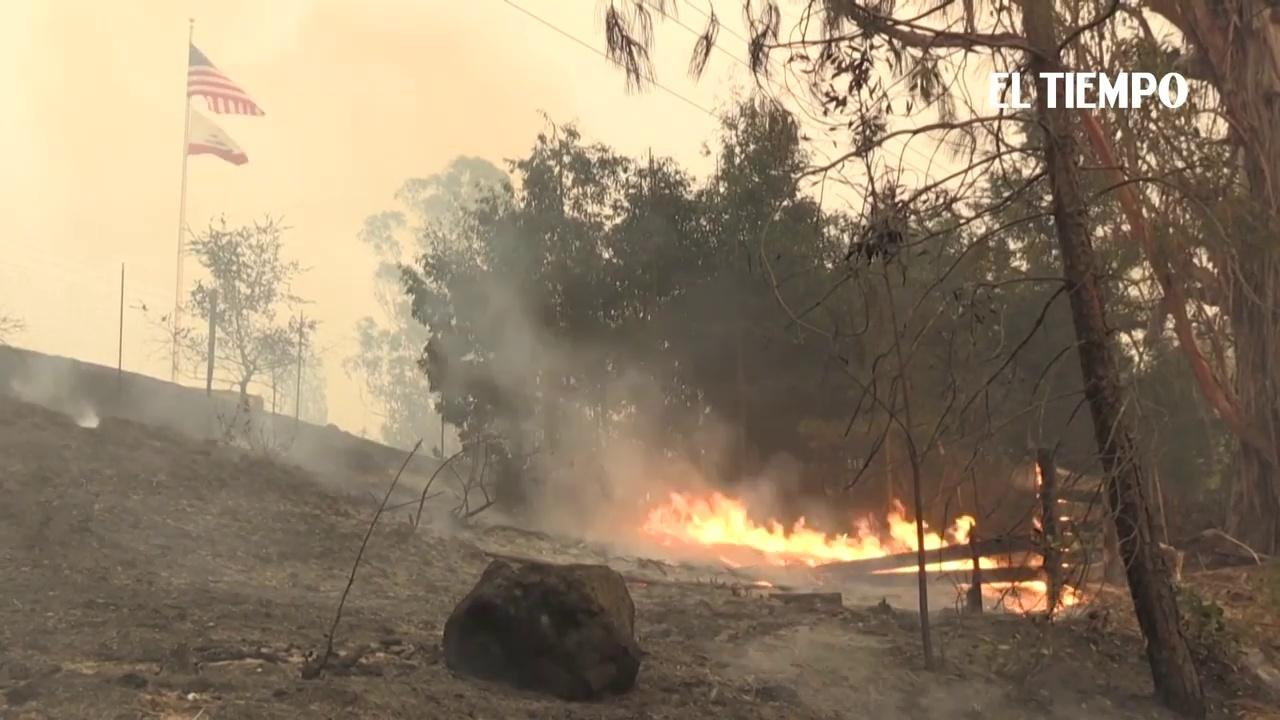fire: (657, 498, 966, 552)
smoke: (532, 371, 625, 550)
